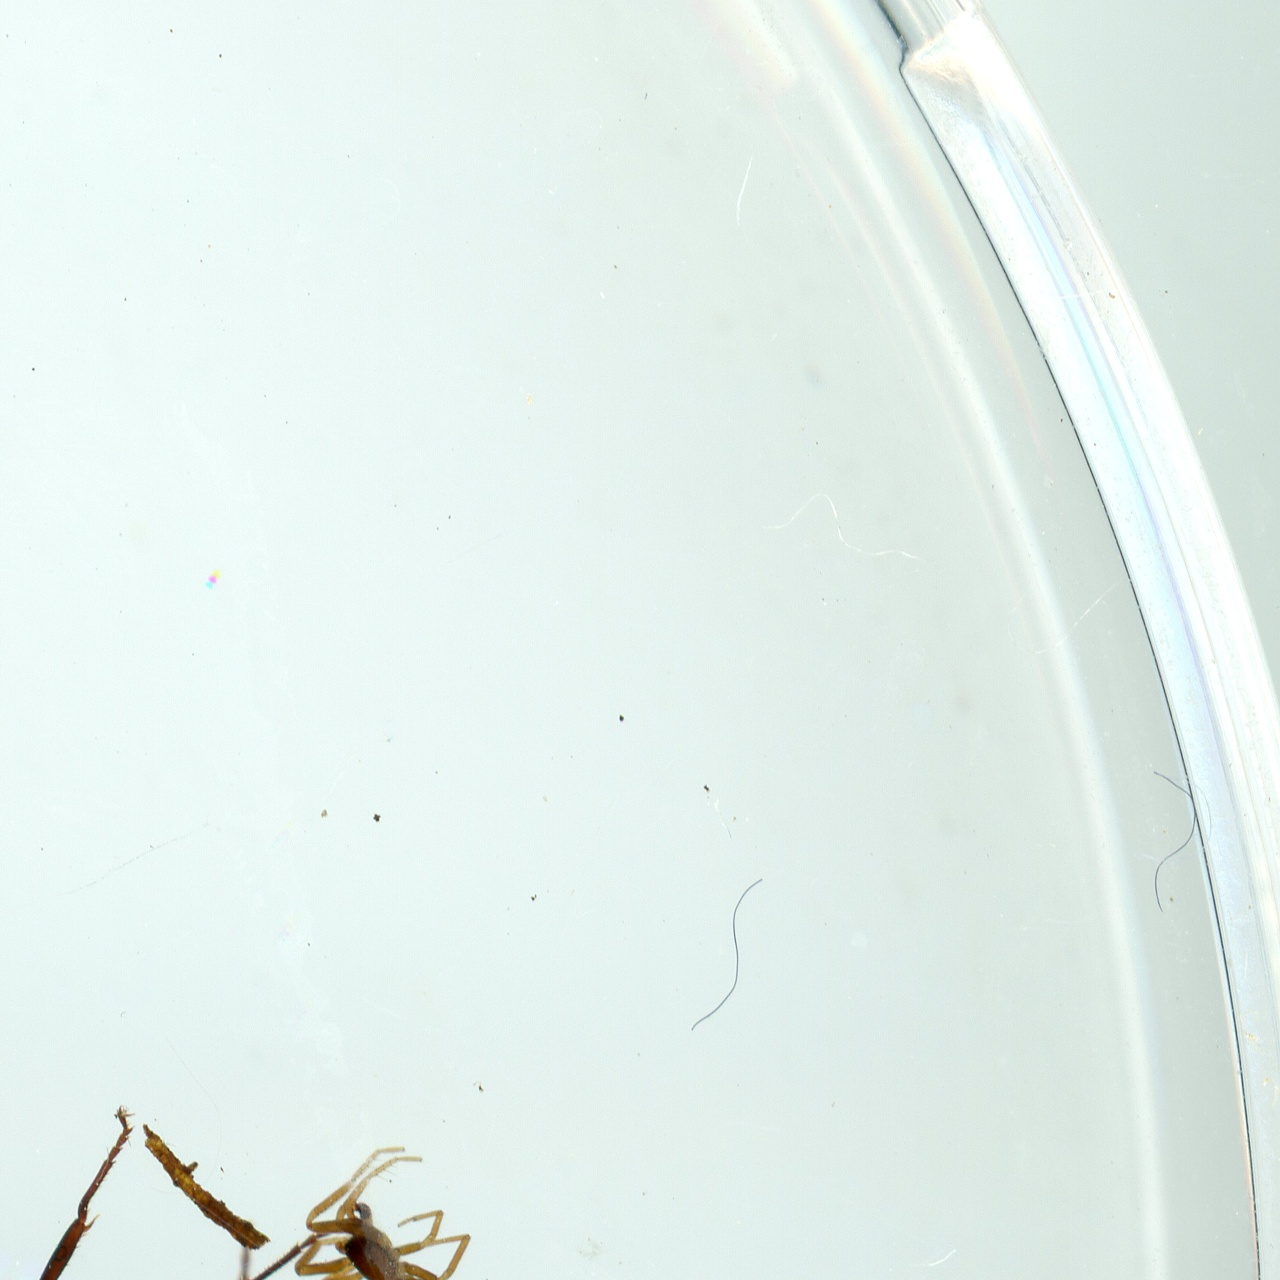arthropod: (0, 1099, 301, 1280), (285, 1138, 485, 1280)
